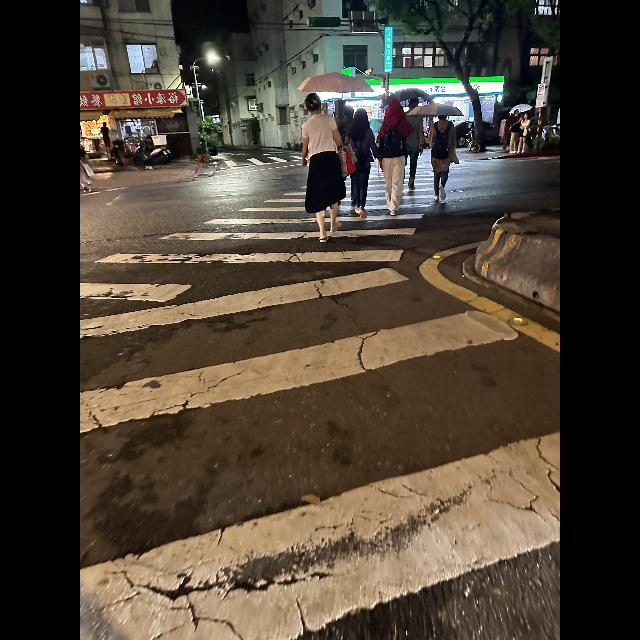sidewalk: (81, 158, 559, 640)
